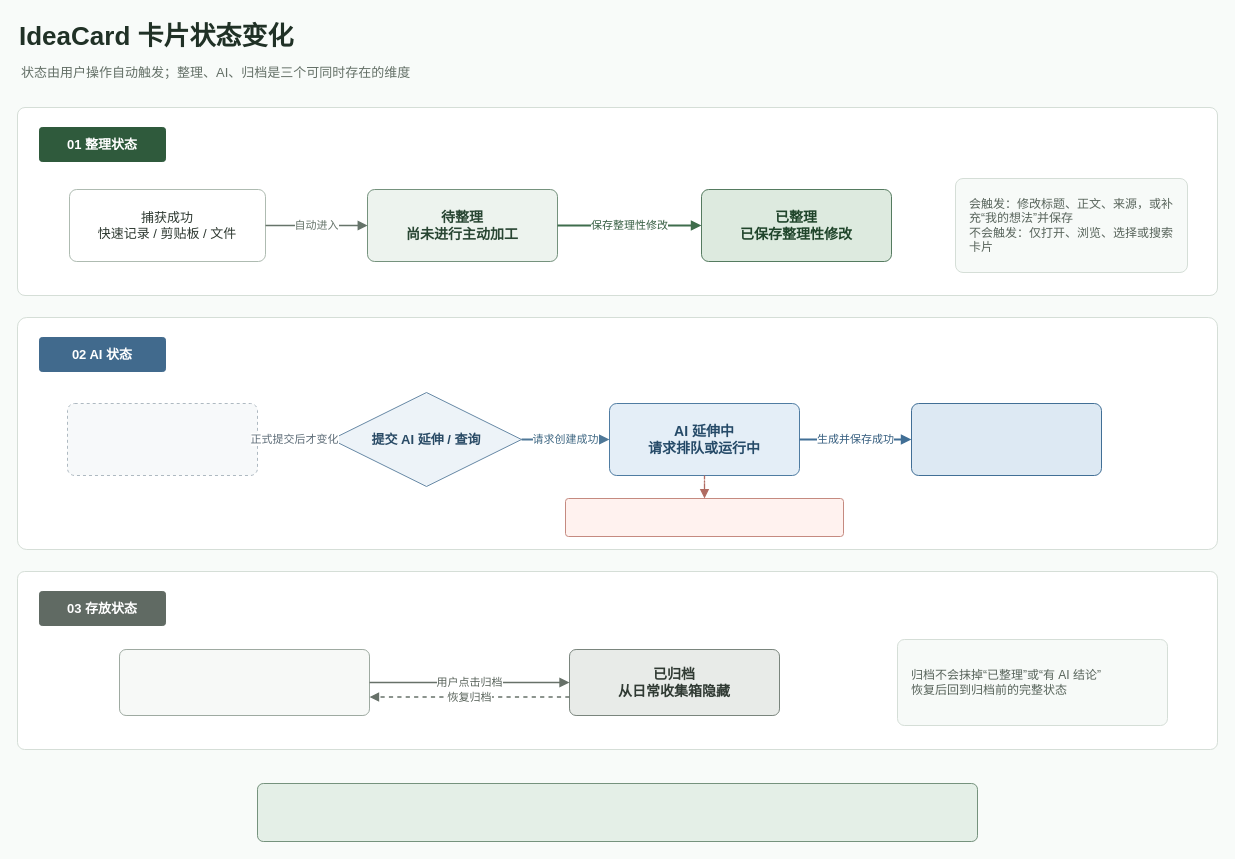
Some shapes in this 1235 by 859 pixel diagram are drawn without their labels. The centre of each missing label's shape, as x and y in pixels:
一个合法的最终组合示例： 已整理 + 有 AI 结论 + 已归档: the point at 617,812
失败或取消 恢复提交前的 AI 状态，并显示行内提示: the point at 704,517
收集箱中的卡片 保留当前整理状态与 AI 状态: the point at 244,682
有 AI 结论 结果已生成并保存: the point at 1006,439
选择为参考材料 AI 状态不变: the point at 162,439
